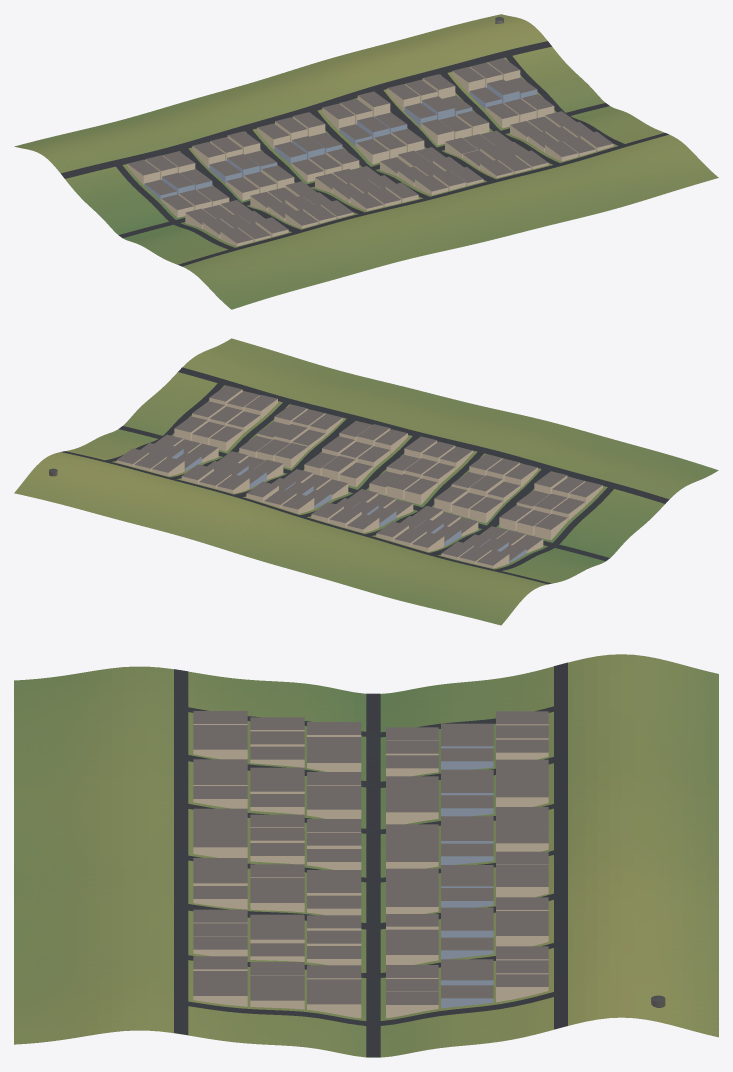
The model's file is ciudad-san-bartolo.glb.
The picture shows the model from 3 angles, top to bottom: view 1: azimuth 30°, elevation 25°; view 2: azimuth 150°, elevation 25°; view 3: azimuth 270°, elevation 25°; orthographic projection. The views are drawn at different scales.
Visible parts, largest first — view 1: Redes; view 2: Redes; view 3: Redes.
Boxes of the visible parts, <box> form: Redes: <box>14,14,718,309</box>; Redes: <box>14,338,718,625</box>; Redes: <box>14,654,718,1057</box>.
Size of the model in its own units: 900 by 71.85 by 696.
